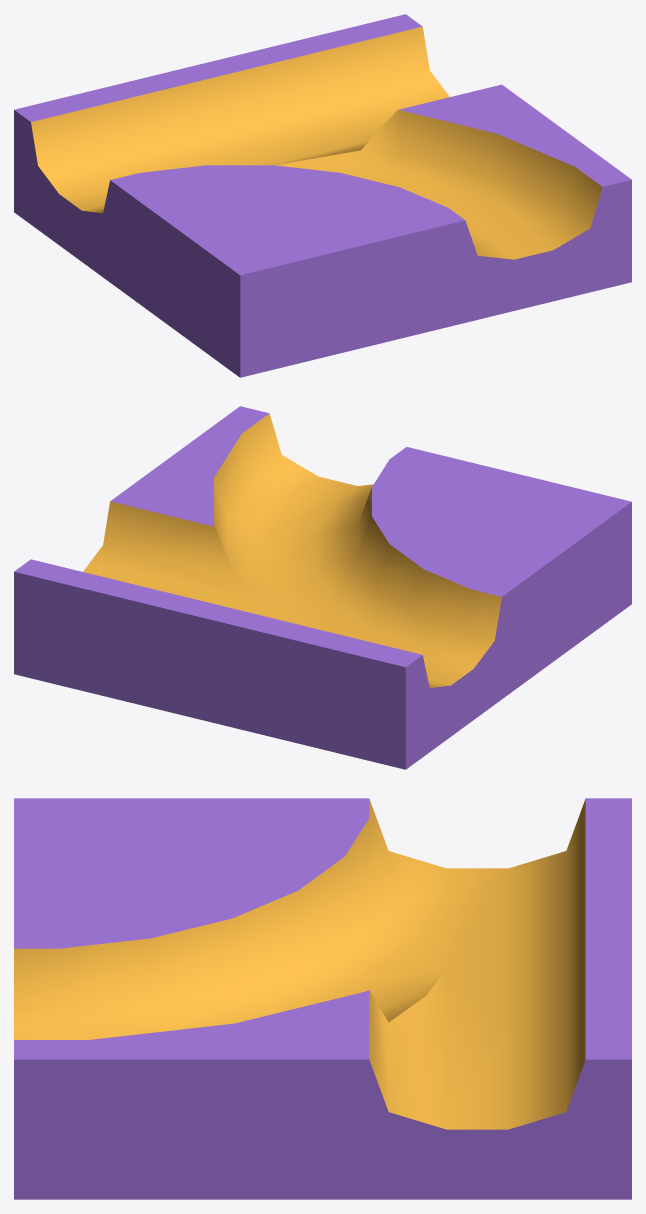
Rendered from split-solid-right.glb.
The picture shows the model from 3 angles, top to bottom: view 1: azimuth 30°, elevation 25°; view 2: azimuth 150°, elevation 25°; view 3: azimuth 270°, elevation 25°; orthographic projection. The views are drawn at different scales.
Parts seen in each view (by area): view 1: split-solid-right; view 2: split-solid-right; view 3: split-solid-right.
Boxes of the visible parts, x1=… form: split-solid-right: x1=14, y1=14, x2=631, y2=377; split-solid-right: x1=14, y1=406, x2=631, y2=769; split-solid-right: x1=14, y1=798, x2=631, y2=1199.
Bounding box in the file's own units: 2 × 0.5001 × 2.
Materials: 1 (1 with a texture image).
